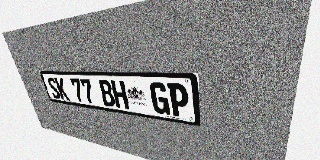7: (69, 78, 86, 103), (79, 79, 96, 104)
B: (98, 80, 116, 107)
G: (149, 82, 170, 115)
H: (110, 80, 129, 109)
K: (54, 78, 70, 101)
P: (167, 83, 190, 118)
S: (46, 77, 61, 99)
